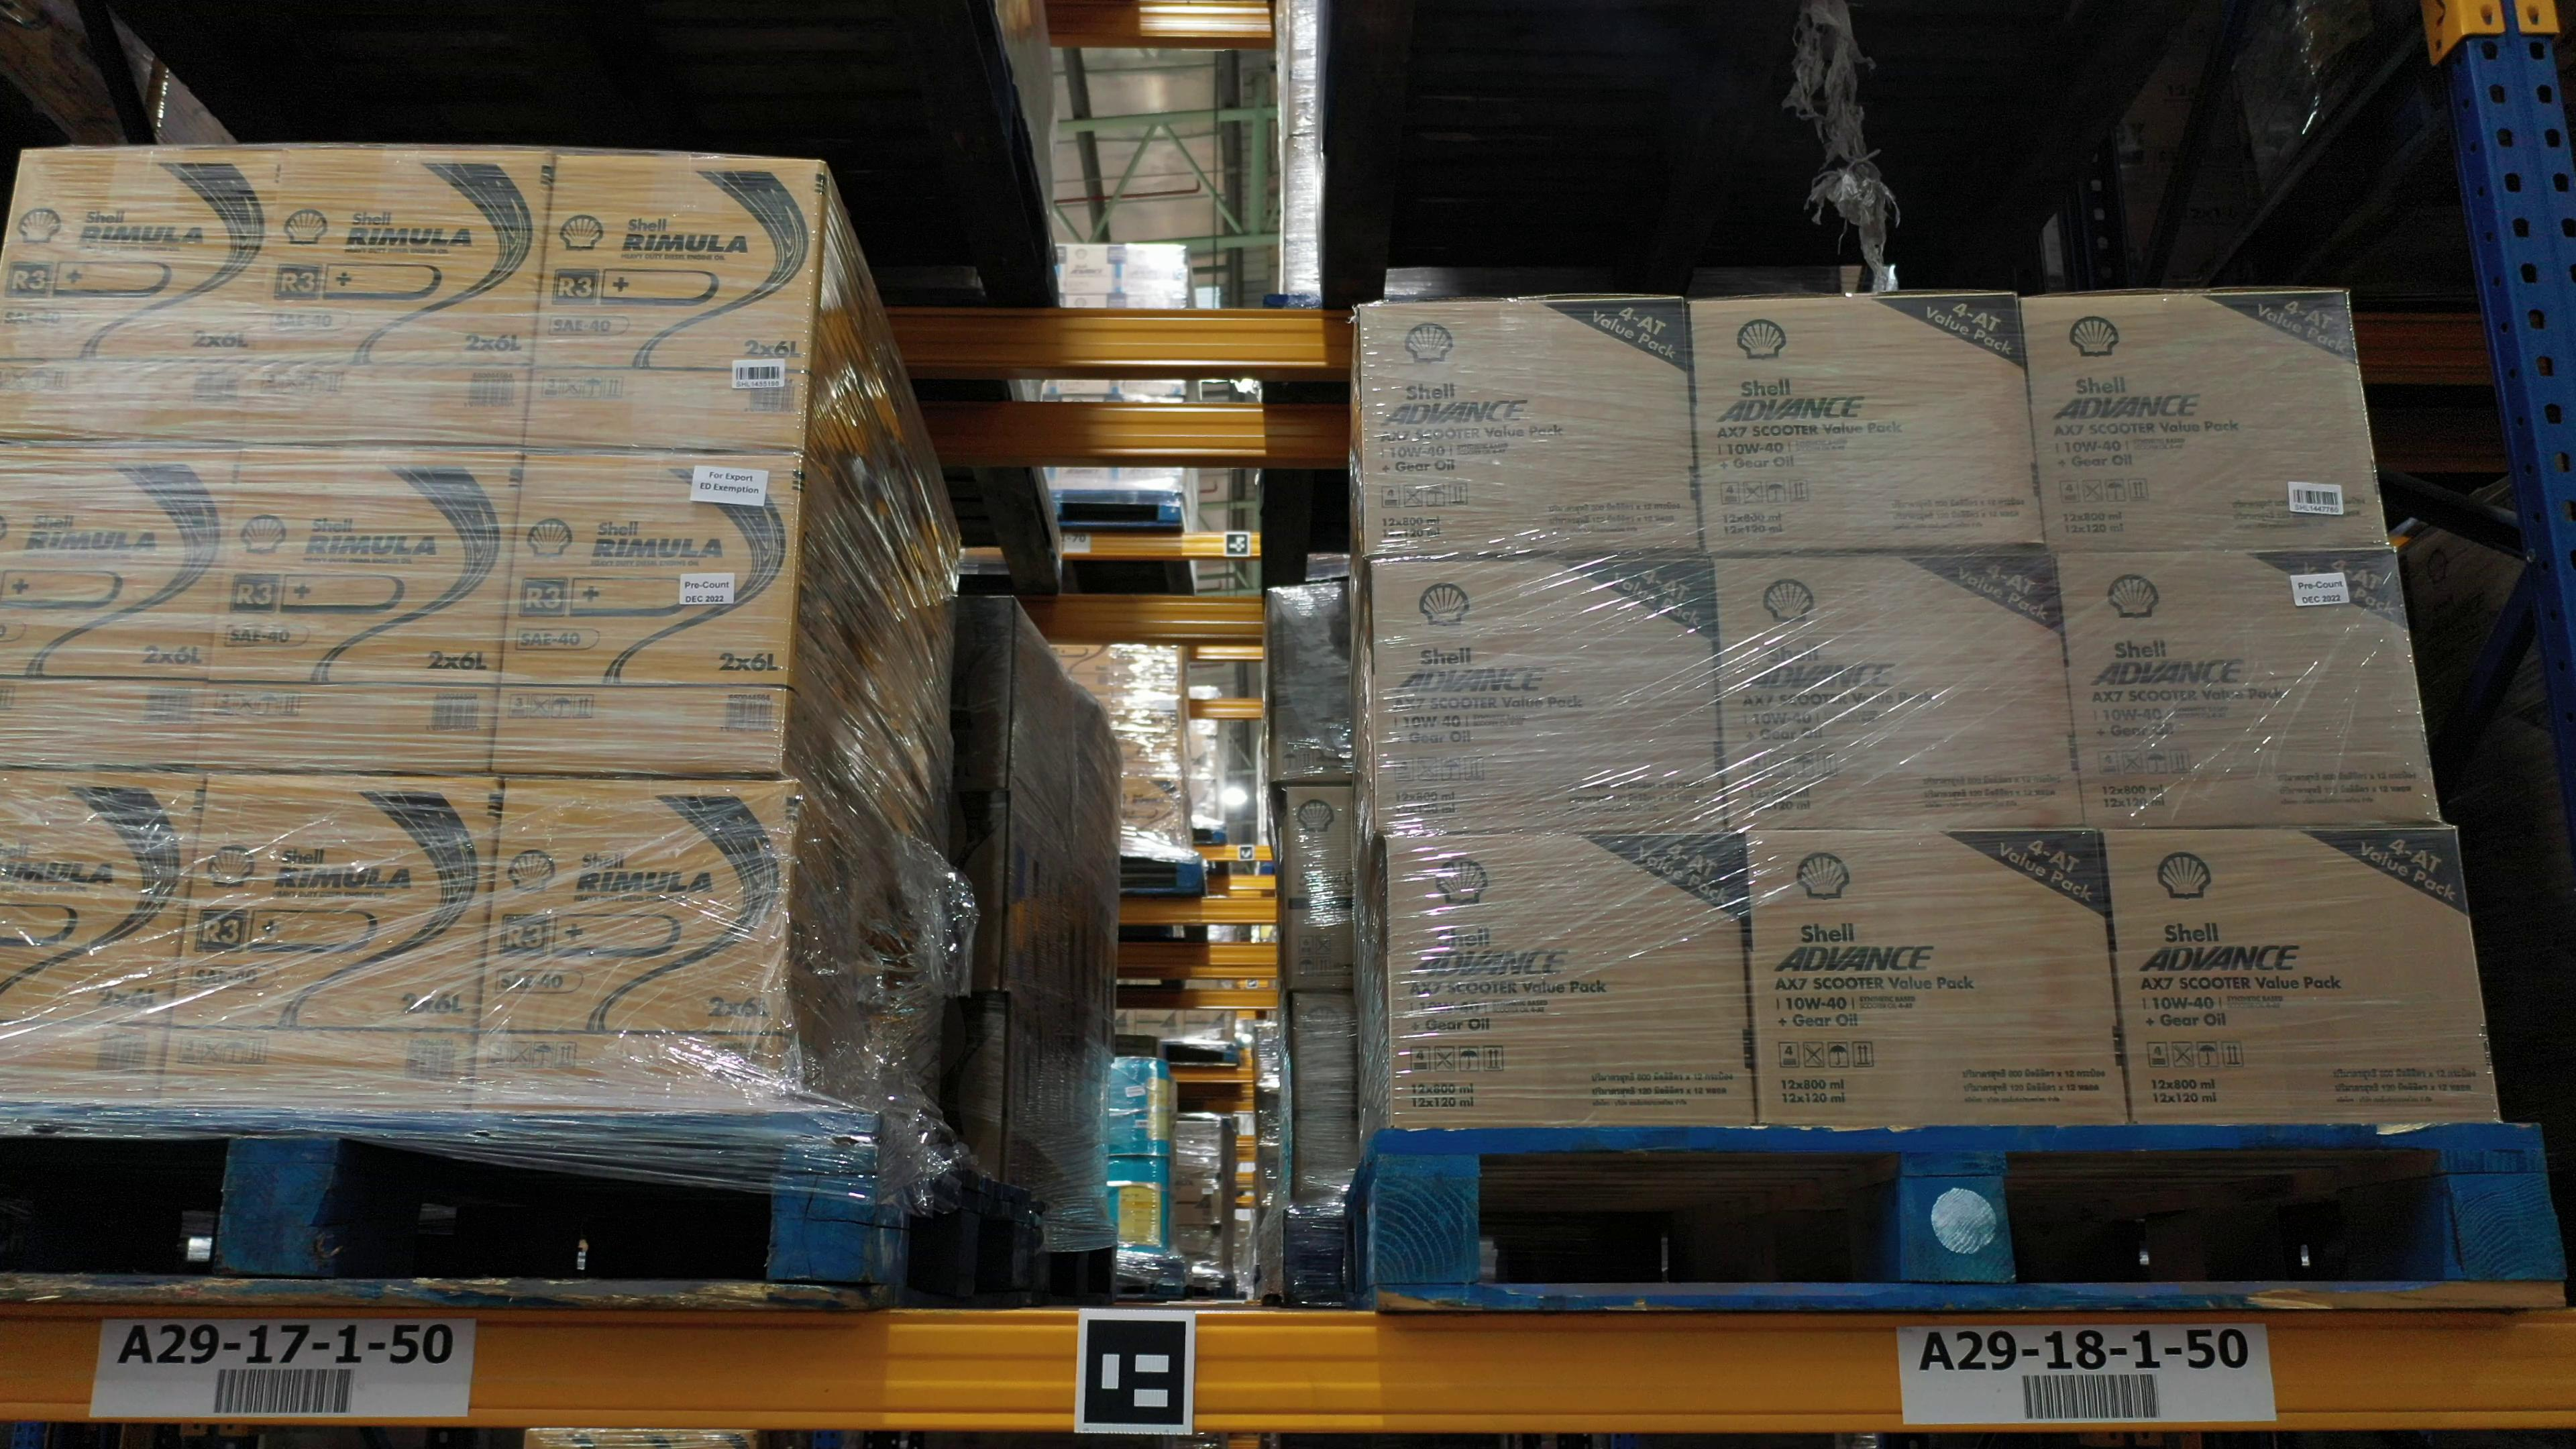-: (154, 771, 501, 1116), (2100, 828, 2502, 1125), (1744, 830, 2130, 1127), (198, 442, 533, 777), (465, 773, 798, 1109), (1387, 837, 1762, 1129), (2058, 548, 2447, 828), (492, 441, 803, 780), (1714, 552, 2088, 830), (1369, 554, 1729, 837), (2017, 294, 2392, 550), (244, 145, 552, 455), (1686, 294, 2043, 554), (1357, 297, 1700, 557), (524, 154, 823, 449), (0, 150, 285, 441), (0, 435, 242, 763), (0, 763, 205, 1109)
